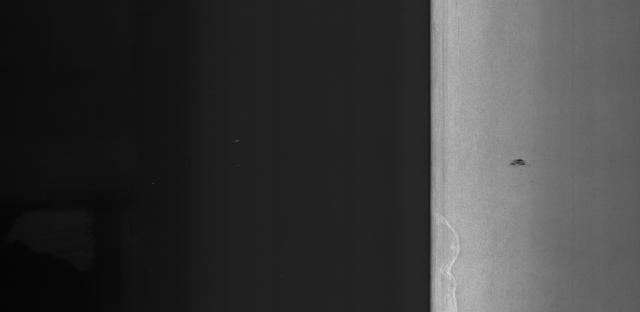inclusion: (505, 156, 534, 173)
water_spot: (432, 199, 468, 312)
